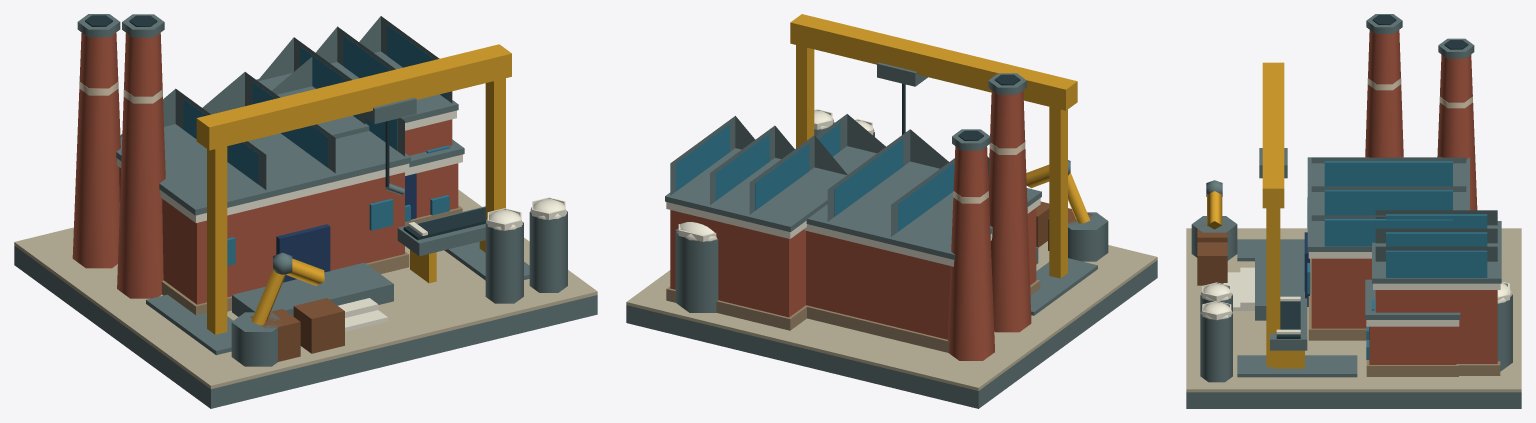
File: factory-lv4.glb
The picture shows the model from 3 angles, left to right: view 1: azimuth 30°, elevation 25°; view 2: azimuth 150°, elevation 25°; view 3: azimuth 270°, elevation 25°; orthographic projection. The views are drawn at different scales.
Parts seen in each view (by area): view 1: chimney_clay, foundation_paving, main_workshop_clay, foundation_iron, gantry_beam_ochre, main_workshop_roof_iron, gantry_posts_ochre, material_silos_iron, loading_platform_iron, main_workshop_sawtooth_iron, supply_crates_wood, main_workshop_skylights_glass (+22 smaller); view 2: chimney_clay, foundation_paving, main_workshop_clay, foundation_iron, gantry_beam_ochre, second_workshop_clay, main_workshop_roof_iron, second_workshop_roof_iron, gantry_posts_ochre, second_workshop_skylights_glass, main_workshop_skylights_glass, main_workshop_sawtooth_iron (+15 smaller); view 3: foundation_paving, main_workshop_skylights_glass, chimney_clay, foundation_iron, second_workshop_skylights_glass, second_workshop_clay, main_workshop_clay, warehouse_clay, gantry_beam_ochre, gantry_foot_iron, main_workshop_roof_iron, second_workshop_sawtooth_iron (+24 smaller).
Part boxes in pixels (bbox=[...]): chimney_clay: bbox=[72, 33, 165, 298]; foundation_paving: bbox=[14, 189, 597, 389]; main_workshop_clay: bbox=[119, 167, 404, 304]; foundation_iron: bbox=[14, 246, 597, 408]; gantry_beam_ochre: bbox=[196, 44, 511, 150]; main_workshop_roof_iron: bbox=[116, 124, 410, 215]; gantry_posts_ochre: bbox=[207, 78, 505, 334]; material_silos_iron: bbox=[485, 211, 567, 303]; loading_platform_iron: bbox=[232, 262, 393, 316]; main_workshop_sawtooth_iron: bbox=[120, 57, 404, 189]; supply_crates_wood: bbox=[250, 298, 344, 361]; main_workshop_skylights_glass: bbox=[183, 82, 397, 184]; chimney_clay: bbox=[947, 90, 1031, 360]; foundation_paving: bbox=[626, 241, 1157, 390]; main_workshop_clay: bbox=[806, 208, 1036, 339]; foundation_iron: bbox=[626, 260, 1157, 408]; gantry_beam_ochre: bbox=[790, 14, 1077, 110]; second_workshop_clay: bbox=[670, 210, 805, 317]; main_workshop_roof_iron: bbox=[806, 146, 1041, 259]; second_workshop_roof_iron: bbox=[665, 148, 848, 231]; gantry_posts_ochre: bbox=[796, 45, 1067, 278]; second_workshop_skylights_glass: bbox=[676, 124, 809, 210]; main_workshop_skylights_glass: bbox=[818, 123, 954, 231]; main_workshop_sawtooth_iron: bbox=[816, 114, 989, 236]; foundation_paving: bbox=[1186, 228, 1521, 392]; main_workshop_skylights_glass: bbox=[1324, 161, 1452, 246]; chimney_clay: bbox=[1365, 30, 1477, 210]; foundation_iron: bbox=[1186, 392, 1521, 408]; second_workshop_skylights_glass: bbox=[1386, 214, 1487, 277]; second_workshop_clay: bbox=[1375, 290, 1497, 363]; main_workshop_clay: bbox=[1311, 258, 1371, 328]; warehouse_clay: bbox=[1369, 326, 1456, 364]; gantry_beam_ochre: bbox=[1262, 62, 1284, 208]; gantry_foot_iron: bbox=[1237, 239, 1357, 377]; main_workshop_roof_iron: bbox=[1307, 157, 1469, 251]; second_workshop_sawtooth_iron: bbox=[1375, 210, 1497, 261].
Bounding box in the file's own units: 1 × 0.7197 × 0.88.
